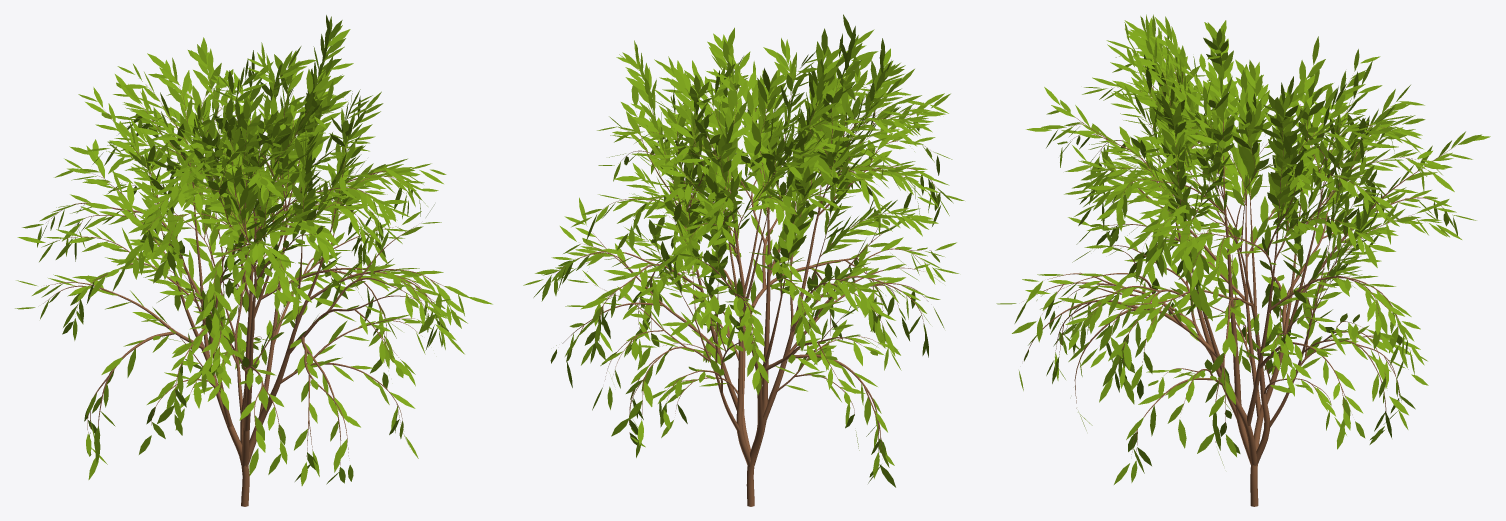
Rendered from tree-summer-complete-misc-0-063.glb.
The picture shows the model from 3 angles, left to right: view 1: azimuth 30°, elevation 25°; view 2: azimuth 150°, elevation 25°; view 3: azimuth 270°, elevation 25°; orthographic projection. The views are drawn at different scales.
Parts seen in each view (by area): view 1: leaves_277, tree.004_320; view 2: leaves_277, tree.004_320; view 3: leaves_277, tree.004_320.
Boxes of the visible parts, left/top/right/bottom form: leaves_277: left=15, top=15, right=492, bottom=485; tree.004_320: left=43, top=74, right=450, bottom=506; leaves_277: left=523, top=14, right=964, bottom=487; tree.004_320: left=553, top=75, right=937, bottom=506; leaves_277: left=996, top=14, right=1490, bottom=484; tree.004_320: left=1023, top=43, right=1455, bottom=506.
Size of the model in its own units: 1.58 by 1.9 by 1.82.
